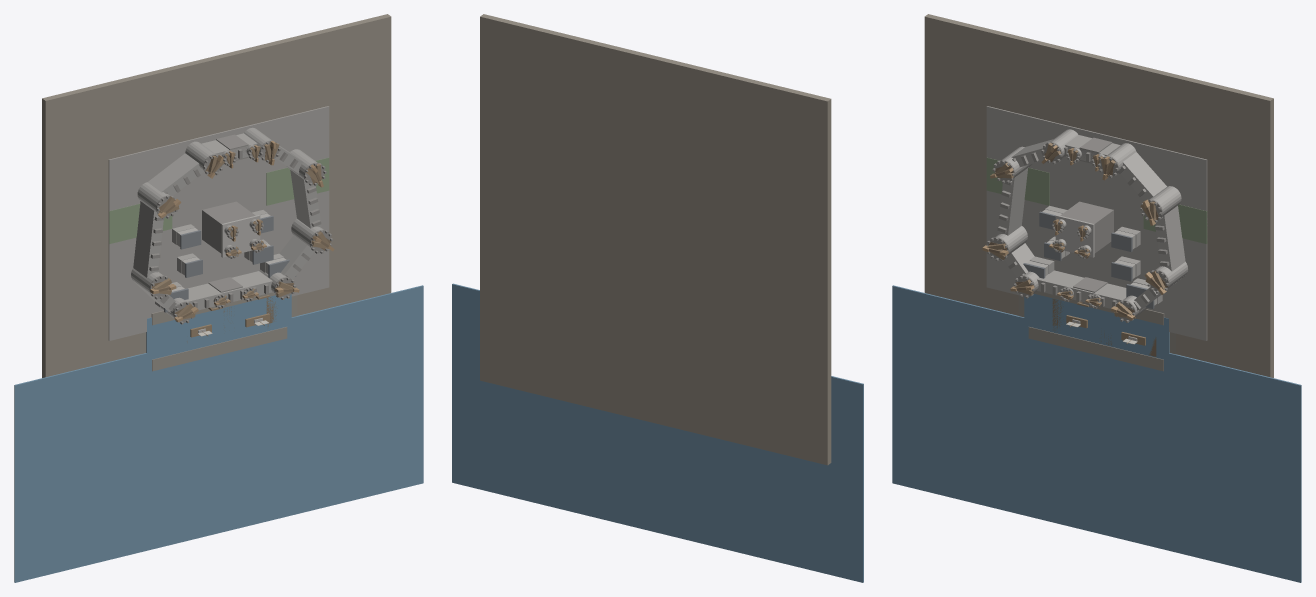
Rendered from Keelfort_v2_Compact.glb.
3 views of the same model, side by side, from view 1: azimuth 30°, elevation 25°; view 2: azimuth 150°, elevation 25°; view 3: azimuth 330°, elevation 25° (orthographic).
Visible parts, largest first — view 1: Sea, Ground_Base, Fort_Terrace, Inner_Harbor, South_Quay, CurtainWall_0, Keep_Main, CurtainWall_6, Bank_East, CurtainWall_1, Bank_West, CurtainWall_4 (+2 smaller); view 2: Ground_Base, Sea; view 3: Sea, Ground_Base, Fort_Terrace, Inner_Harbor, South_Quay, CurtainWall_6, Keep_Main, CurtainWall_4, Bank_West, CurtainWall_0, CurtainWall_3, Bank_East (+4 smaller).
Part boxes in pixels (x1=…): Sea: x1=14, y1=285, x2=423, y2=582; Ground_Base: x1=42, y1=14, x2=391, y2=377; Fort_Terrace: x1=108, y1=106, x2=329, y2=340; Inner_Harbor: x1=146, y1=294, x2=291, y2=360; South_Quay: x1=152, y1=327, x2=287, y2=371; CurtainWall_0: x1=133, y1=201, x2=163, y2=277; Keep_Main: x1=202, y1=201, x2=255, y2=253; CurtainWall_6: x1=185, y1=271, x2=272, y2=310; Bank_East: x1=266, y1=157, x2=329, y2=205; CurtainWall_1: x1=148, y1=153, x2=204, y2=195; Bank_West: x1=109, y1=203, x2=172, y2=243; CurtainWall_4: x1=290, y1=170, x2=321, y2=228; Ground_Base: x1=480, y1=14, x2=831, y2=465; Sea: x1=452, y1=283, x2=863, y2=582; Sea: x1=892, y1=285, x2=1301, y2=582; Ground_Base: x1=924, y1=14, x2=1273, y2=377; Fort_Terrace: x1=986, y1=106, x2=1207, y2=340; Inner_Harbor: x1=1024, y1=294, x2=1169, y2=367; South_Quay: x1=1028, y1=327, x2=1163, y2=371; CurtainWall_6: x1=1037, y1=270, x2=1126, y2=308; Keep_Main: x1=1060, y1=201, x2=1113, y2=253; CurtainWall_4: x1=1155, y1=205, x2=1185, y2=271; Bank_West: x1=986, y1=157, x2=1049, y2=205; CurtainWall_0: x1=997, y1=168, x2=1027, y2=235; CurtainWall_3: x1=1120, y1=152, x2=1166, y2=200; Bank_East: x1=1143, y1=200, x2=1207, y2=243.
Bounding box in the file's own units: 260 × 288 × 35.93.
